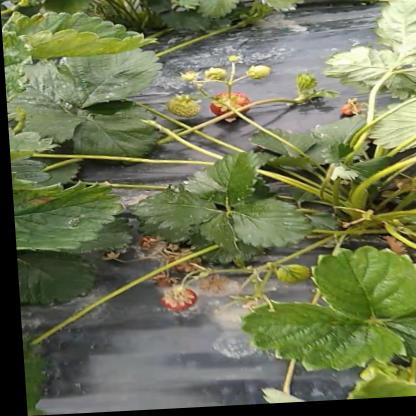ripe: (207, 94, 250, 121), (157, 290, 196, 313)
unripe: (165, 100, 201, 121), (335, 103, 363, 121), (246, 67, 274, 82), (204, 69, 227, 83)
